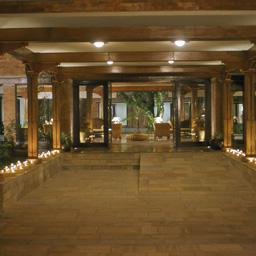Escaleras: (140, 154, 246, 193)
